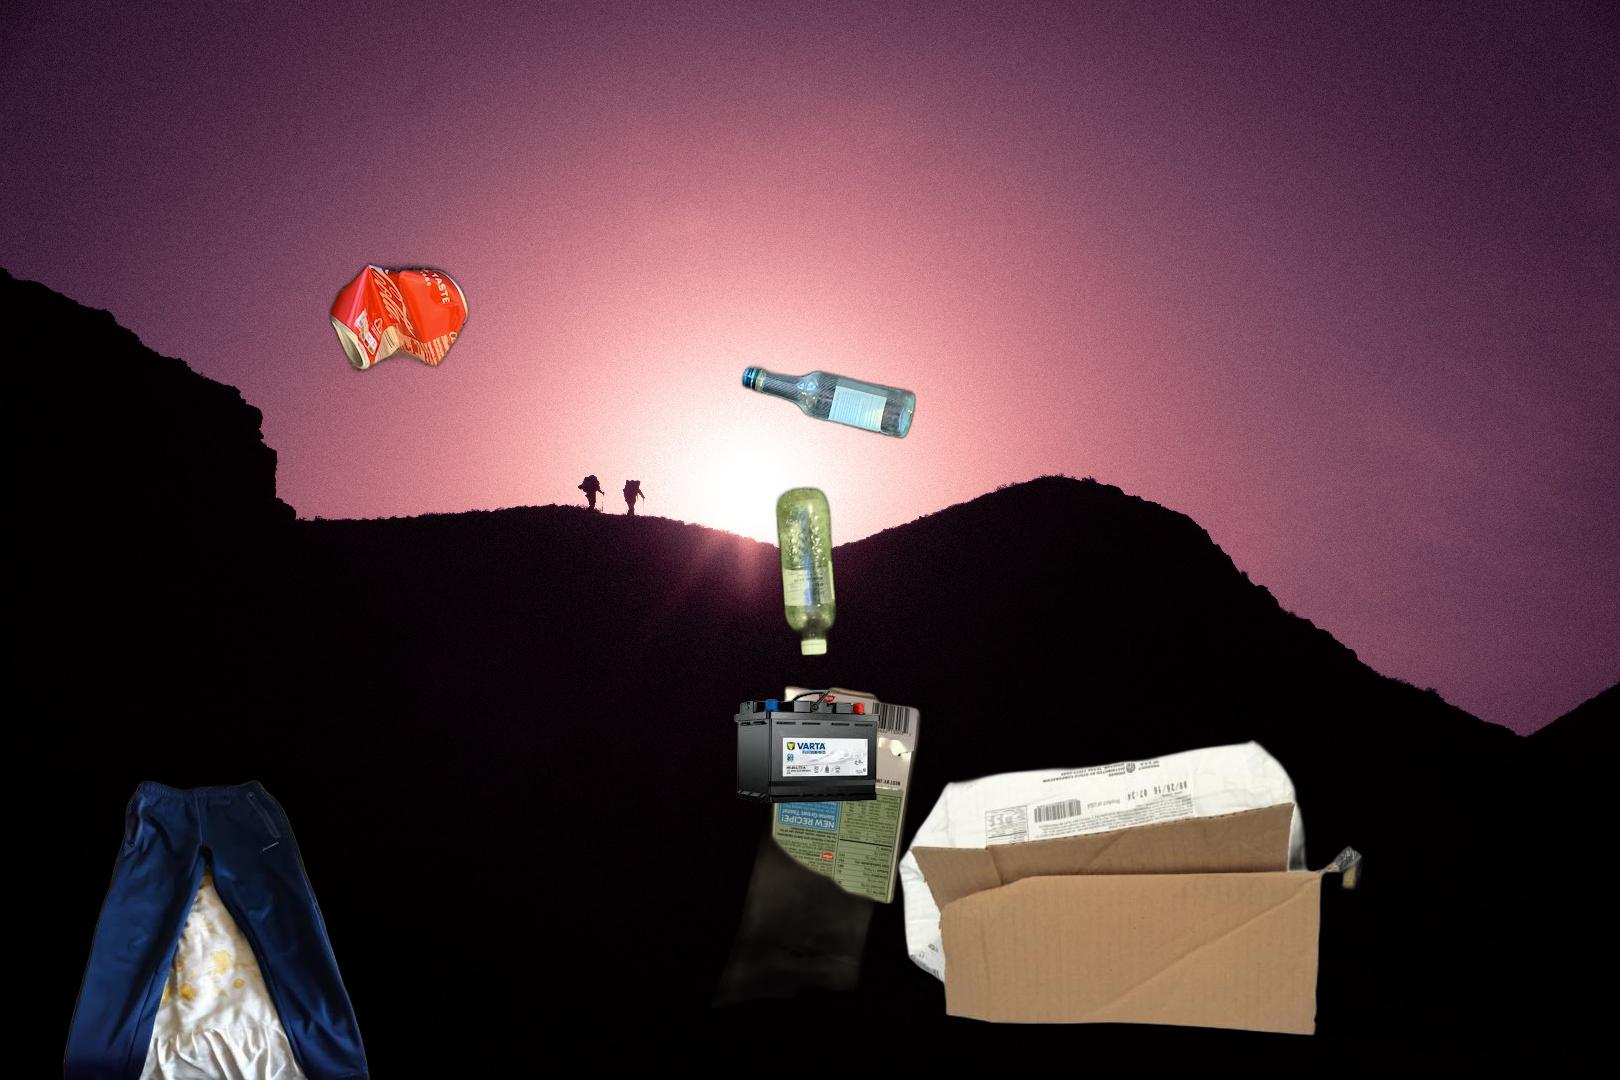battery: (730, 687, 884, 806)
clothes: (61, 776, 375, 1080)
glass: (736, 360, 920, 445), (1562, 1022, 1620, 1080)
metal-cans: (325, 258, 472, 378)
paper: (597, 683, 925, 1037)
plastic-bottles: (771, 482, 840, 663)
trashbox-cardboard: (893, 736, 1386, 1037)
